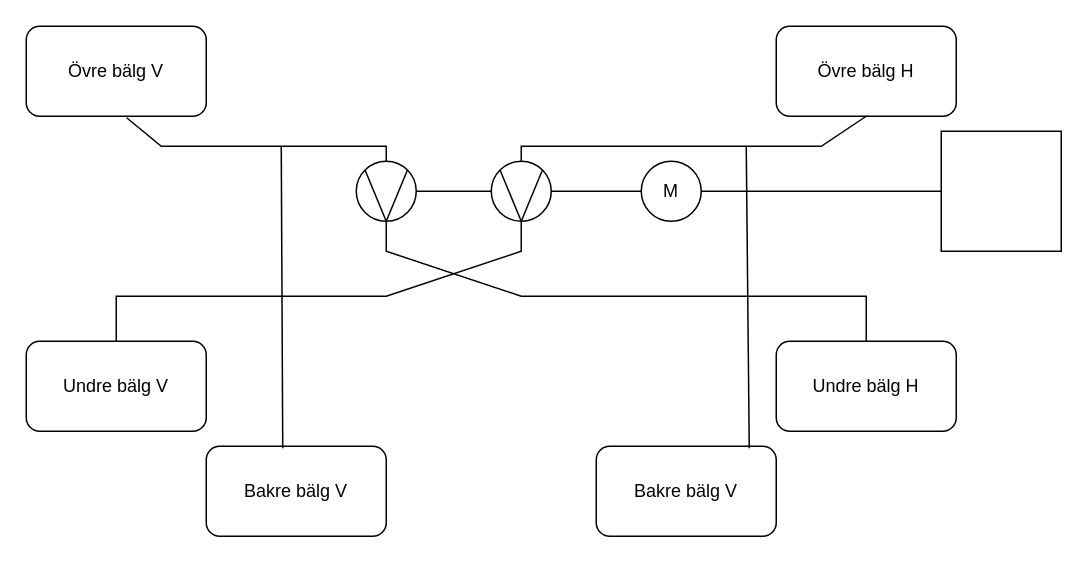
Image size: 1088x563. Some labels were removed from this diagram. Each missing label, with the centre of its shape:
Accelerometer och PID: the point at 1000,190
BDP1: the point at 385,190
BDP2: the point at 520,190
